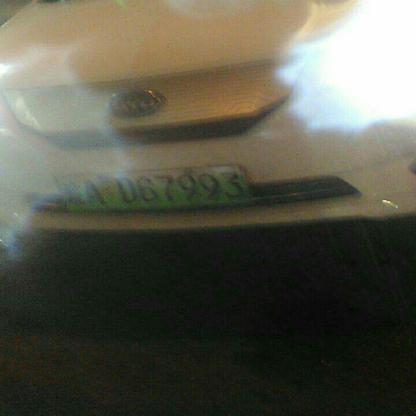lp: (52, 166, 67, 208)
